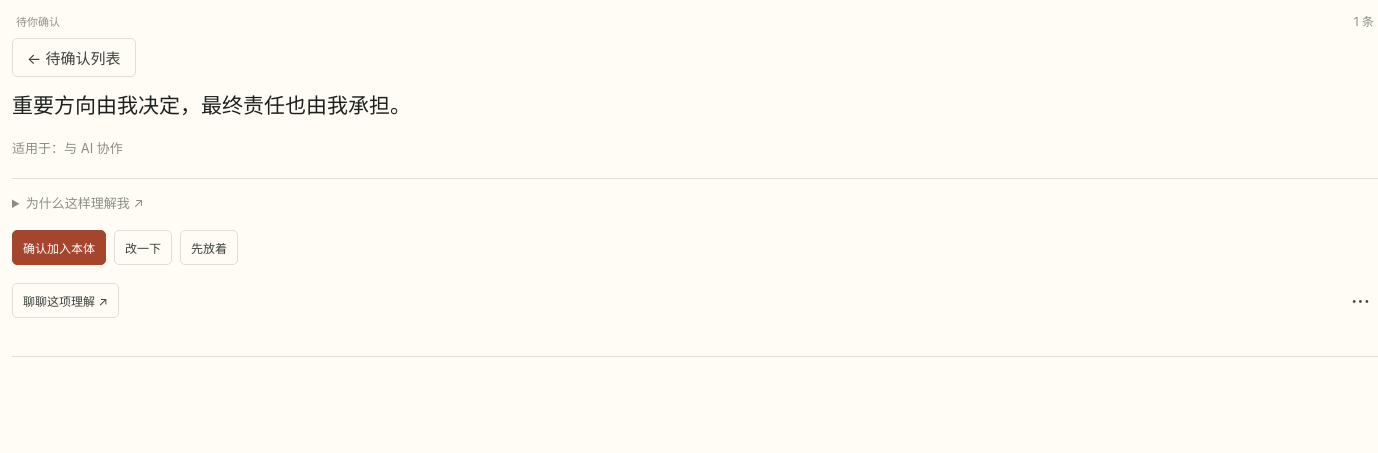
it: does not show success when the persisted version differs
Click the button "确认加入本体": (59, 248) top-left (12, 230), bottom-right (106, 265)
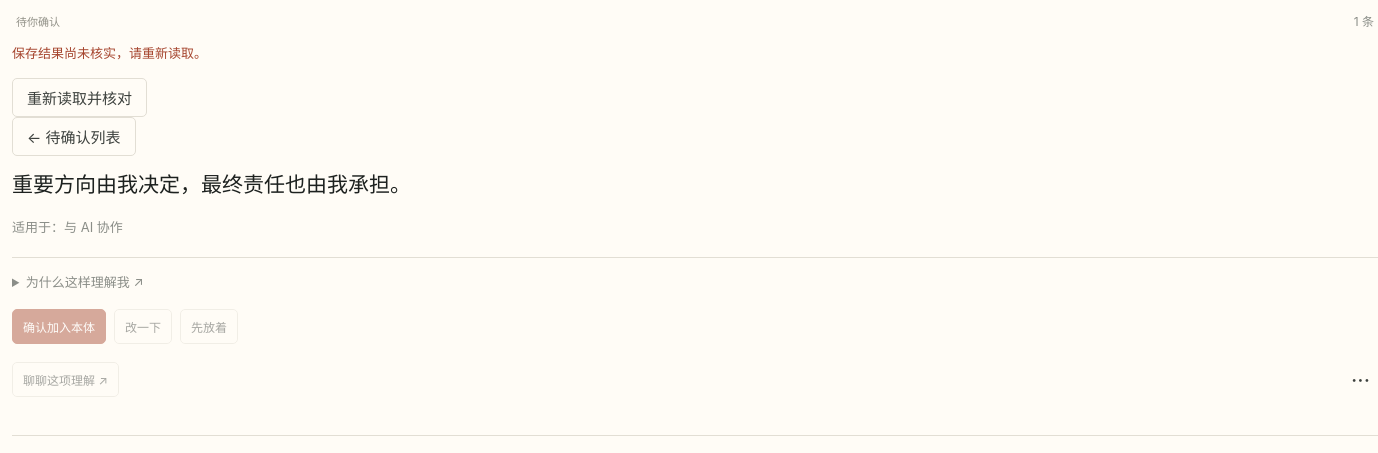
Result: the text "保存结果尚未核实，请重新读取。" is shown at top-left (12, 45), bottom-right (207, 61)
Result: the button "确认加入本体" is disabled at top-left (12, 309), bottom-right (106, 344)
